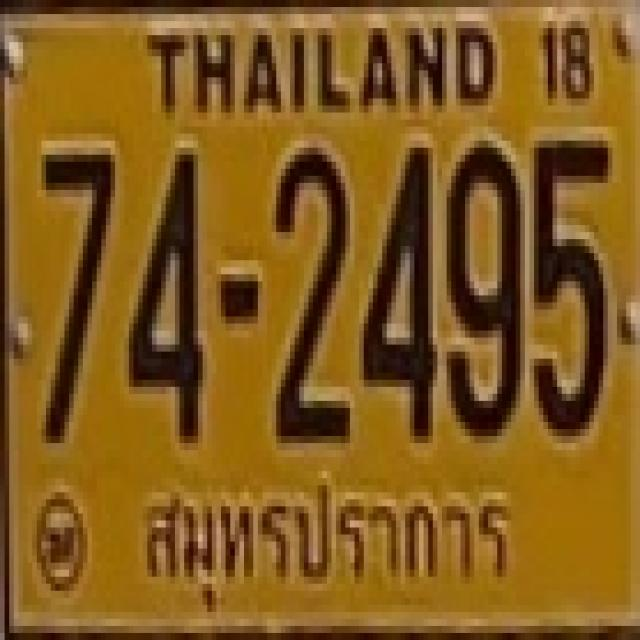0: (442, 137, 516, 433)
2: (272, 144, 345, 440)
4: (359, 141, 433, 436), (124, 148, 198, 436)
5: (529, 134, 608, 429)
7: (39, 148, 113, 436)
9: (442, 137, 516, 433)
SPK: (137, 473, 521, 615)
